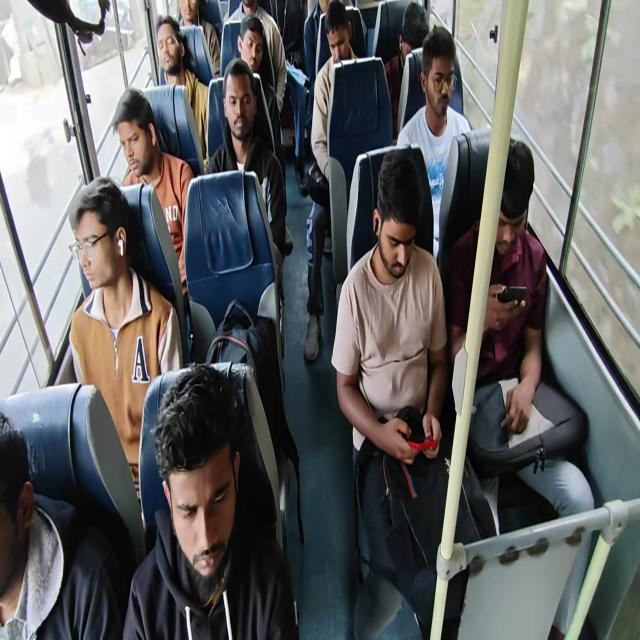person: (331, 148, 496, 638), (446, 137, 595, 637), (122, 362, 299, 639), (68, 176, 183, 516), (0, 411, 124, 639), (303, 0, 360, 361), (206, 58, 286, 300), (395, 25, 473, 261), (112, 87, 195, 297), (154, 15, 209, 160), (229, 0, 286, 115), (384, 1, 429, 140), (303, 0, 332, 148), (27, 0, 110, 45), (177, 0, 220, 78)
